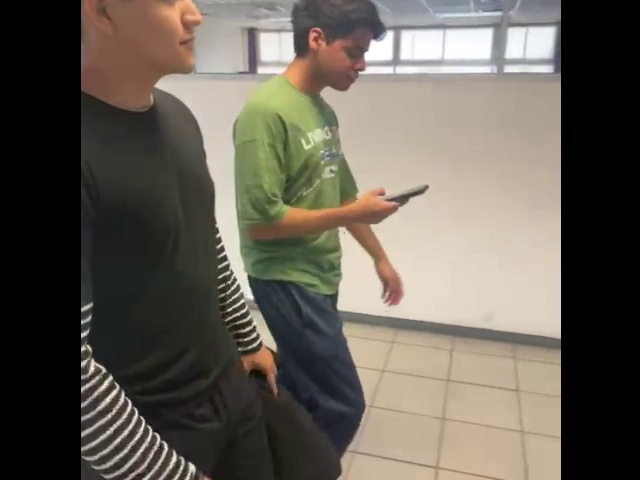mixto2: (375, 176, 431, 207)
